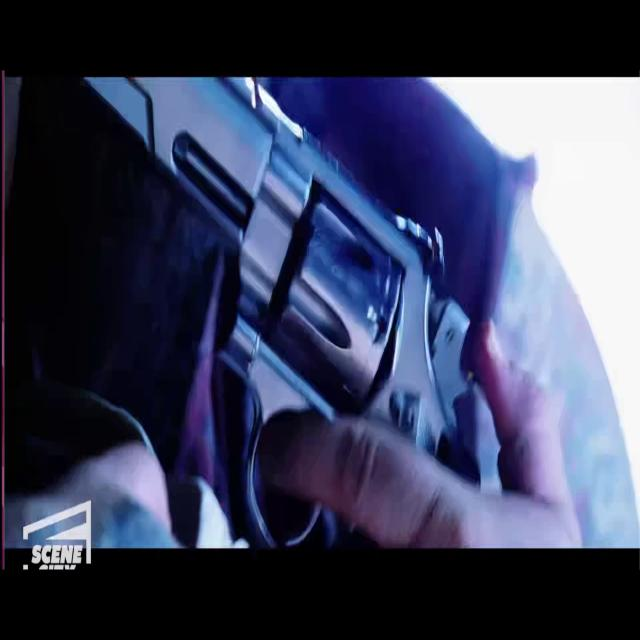weapons: (75, 75, 504, 551)
